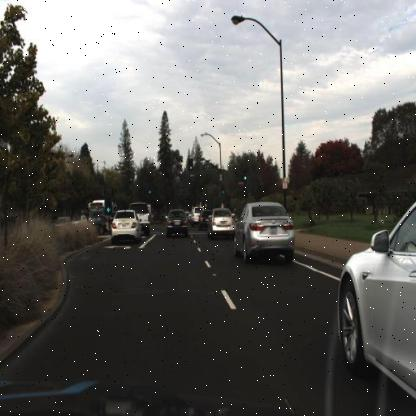car: (334, 189, 415, 411), (229, 200, 294, 263), (109, 209, 140, 244), (166, 208, 188, 237), (210, 208, 230, 238), (132, 206, 153, 234), (200, 207, 212, 232), (192, 206, 202, 228)
trafficLight-Green: (147, 186, 153, 202), (243, 173, 248, 187), (188, 160, 192, 172)
trafficLight-GreenLeft: (105, 195, 110, 219)
truck: (86, 198, 108, 226)
